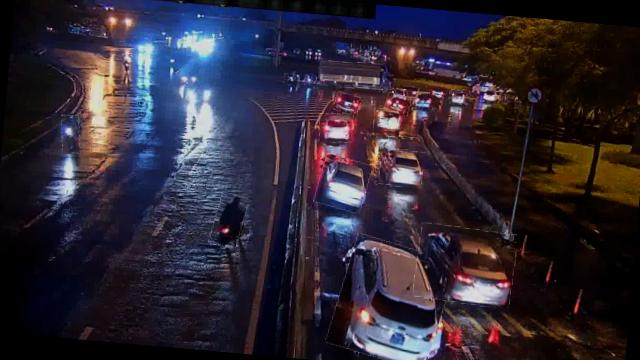Bike: (210, 192, 248, 248), (60, 114, 82, 154)
Car: (330, 236, 453, 360), (412, 224, 518, 308), (314, 155, 370, 213), (378, 148, 425, 188), (317, 112, 353, 144), (374, 108, 404, 133), (334, 92, 362, 114), (384, 94, 412, 116), (448, 89, 471, 106)
Truck: (320, 58, 391, 90)
